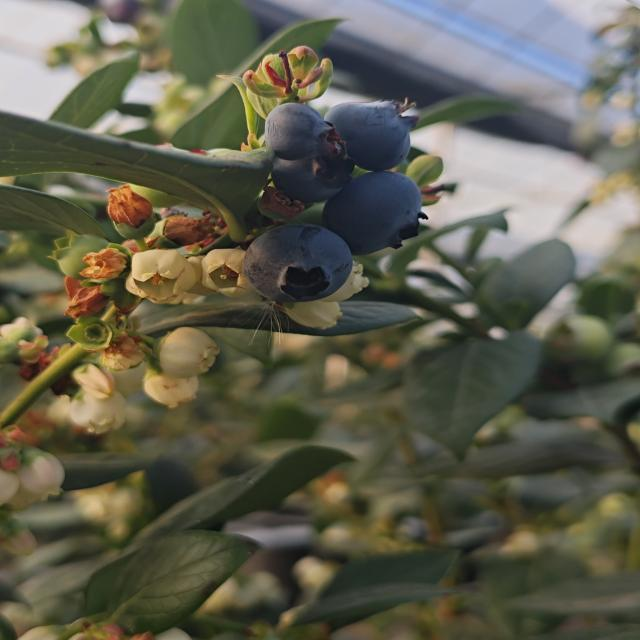ripe: (235, 220, 348, 306), (324, 166, 428, 256), (319, 93, 412, 169), (258, 154, 356, 202), (264, 101, 325, 159)
